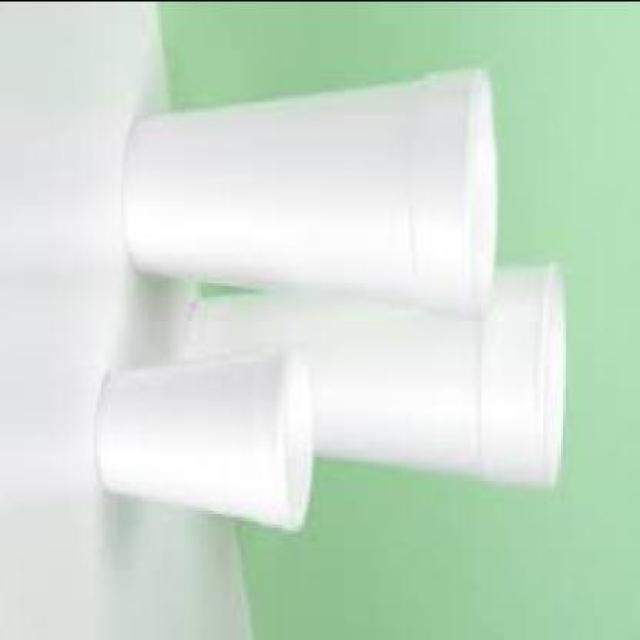PAPER: (125, 62, 501, 307), (194, 268, 566, 486), (100, 352, 315, 530)
